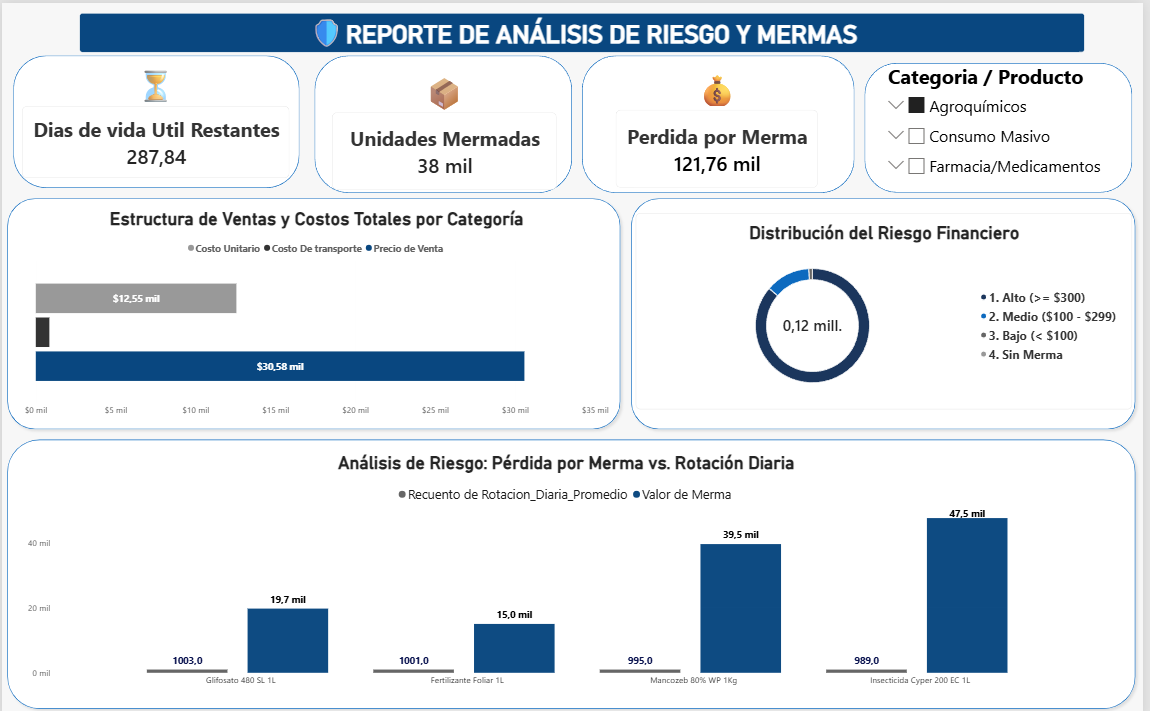

Layout of this report page (visuals, bound fields, positions):
{"tool":"powerbi","page":{"name":"Página 1","canvas":[1920,1200],"ordinal":0},"visuals":[{"type":"shape","box":[1451.9,101.9,450.6,218.1],"z":0},{"type":"shape","box":[976,88.3,458.5,231.4],"z":1000},{"type":"shape","box":[525.9,88.3,433.3,231.4],"z":2000},{"type":"shape","box":[18.9,88.3,481.7,223],"z":3000},{"type":"shape","box":[1049.6,319.7,866.7,406.5],"z":4000},{"type":"shape","box":[0,726.2,1916.3,471.2],"z":5000},{"type":"shape","box":[0,319.7,1049.6,406.5],"z":6000},{"type":"clusteredBarChart","title":"Estructura de Ventas y Costos Totales por Categoría","fields":{"Category":["Simulacion_Control_Interno_Mermas.Categoria"],"Y":["Sum(Simulacion_Control_Interno_Mermas.Costo_Unitario_USD)","Sum(Simulacion_Control_Interno_Mermas.Costo_Transporte_Unit_USD)","Sum(Simulacion_Control_Interno_Mermas.Precio_Venta_USD)"]},"box":[37,345.6,983.1,354.8],"z":7000},{"type":"lineClusteredColumnComboChart","title":"Análisis de Riesgo: Pérdida por Merma vs. Rotación Diaria","fields":{"Category":["Simulacion_Control_Interno_Mermas.Producto"],"Y":["CountNonNull(Simulacion_Control_Interno_Mermas.Rotacion_Diaria_Promedio)","Sum(Simulacion_Control_Interno_Mermas.Valor_Merma_USD)"]},"box":[27.7,742.9,1844.2,428.7],"z":8000},{"type":"donutChart","title":"Distribución del Riesgo Financiero","fields":{"Category":["Simulacion_Control_Interno_Mermas.Impacto_Financiero"],"Y":["Sum(Simulacion_Control_Interno_Mermas.Valor_Merma_USD)"]},"box":[1066.4,353.4,835.1,330.2],"z":9000},{"type":"cardVisual","title":"📦","fields":{"Data":["Sum(Simulacion_Control_Interno_Mermas.Unidades_Mermadas)"]},"box":[556.2,112.7,378.3,201.2],"z":10000},{"type":"cardVisual","title":"💰","fields":{"Data":["Sum(Simulacion_Control_Interno_Mermas.Valor_Merma_USD)"]},"box":[1033.5,109.1,340.8,201.9],"z":11000},{"type":"slicer","fields":{"Values":["Simulacion_Control_Interno_Mermas.Categoria","Simulacion_Control_Interno_Mermas.Producto"]},"box":[1482,101.6,389.9,201.4],"z":12000},{"type":"textbox","title":"🛡️REPORTE DE ANÁLISIS DE RIESGO Y MERMAS","box":[130.5,16.1,1691.5,66.2],"z":13000},{"type":"cardVisual","title":"⏳","fields":{"Data":["Avg(Simulacion_Control_Interno_Mermas.RSL_Dias_Remanentes)"]},"box":[33.7,103.1,450.1,191.4],"z":14000}]}

Visuals, with their boxes in screenshot pixels (x1, y1, x2, y2), scaled from the page's 1920x1200 canvas onto the 1150x711 screenshot:
shape: bbox=[870, 60, 1140, 190]
shape: bbox=[585, 52, 859, 189]
shape: bbox=[315, 52, 575, 189]
shape: bbox=[11, 52, 300, 184]
shape: bbox=[629, 189, 1148, 430]
shape: bbox=[0, 430, 1148, 709]
shape: bbox=[0, 189, 629, 430]
"Estructura de Ventas y Costos Totales por Categoría" clusteredBarChart: bbox=[22, 205, 611, 415]
"Análisis de Riesgo: Pérdida por Merma vs. Rotación Diaria" lineClusteredColumnComboChart: bbox=[17, 440, 1121, 694]
"Distribución del Riesgo Financiero" donutChart: bbox=[639, 209, 1139, 405]
"📦" cardVisual: bbox=[333, 67, 560, 186]
"💰" cardVisual: bbox=[619, 65, 823, 184]
slicer - Simulacion_Control_Interno_Mermas.Categoria x Simulacion_Control_Interno_Mermas.Producto: bbox=[888, 60, 1121, 180]
"🛡️REPORTE DE ANÁLISIS DE RIESGO Y MERMAS" textbox: bbox=[78, 10, 1091, 49]
"⏳" cardVisual: bbox=[20, 61, 290, 174]
